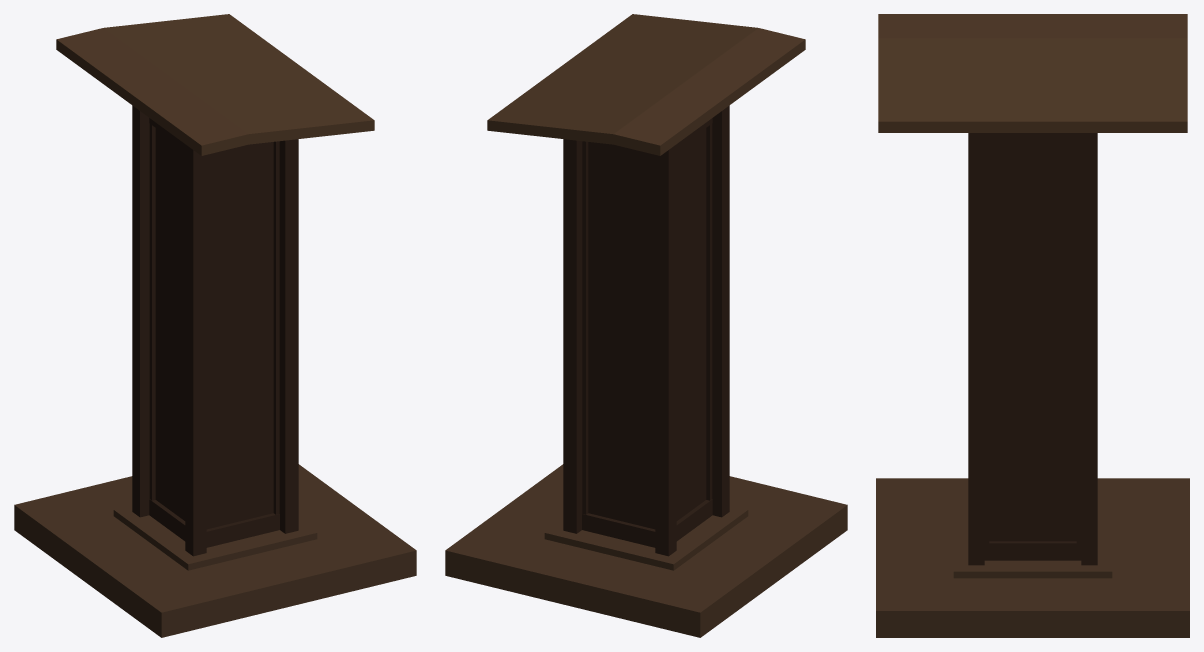
File: book_stand__fb784262748d.glb
3 views of the same model, side by side, from view 1: azimuth 30°, elevation 25°; view 2: azimuth 150°, elevation 25°; view 3: azimuth 270°, elevation 25° (orthographic). The views are drawn at different scales.
Parts seen in each view (by area): view 1: recessed_faces, plinth, sloping_cap; view 2: recessed_faces, plinth, sloping_cap; view 3: recessed_faces, plinth, sloping_cap.
Part boxes in pixels (bbox=[...]): recessed_faces: bbox=[132, 105, 298, 556]; plinth: bbox=[14, 464, 416, 637]; sloping_cap: bbox=[56, 14, 374, 155]; recessed_faces: bbox=[563, 105, 729, 556]; plinth: bbox=[445, 464, 847, 637]; sloping_cap: bbox=[487, 14, 805, 155]; recessed_faces: bbox=[968, 133, 1097, 565]; plinth: bbox=[876, 478, 1189, 637]; sloping_cap: bbox=[878, 14, 1187, 132].
Bounding box in the file's own units: 0.6654 × 1.2 × 0.6654.
